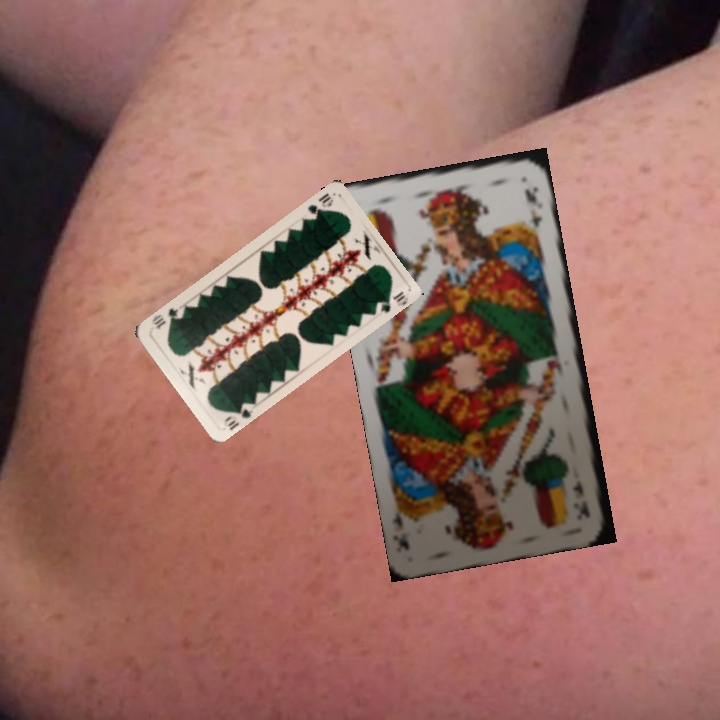EK: (570, 477, 593, 521)
G10: (219, 398, 256, 432), (303, 189, 336, 219)
